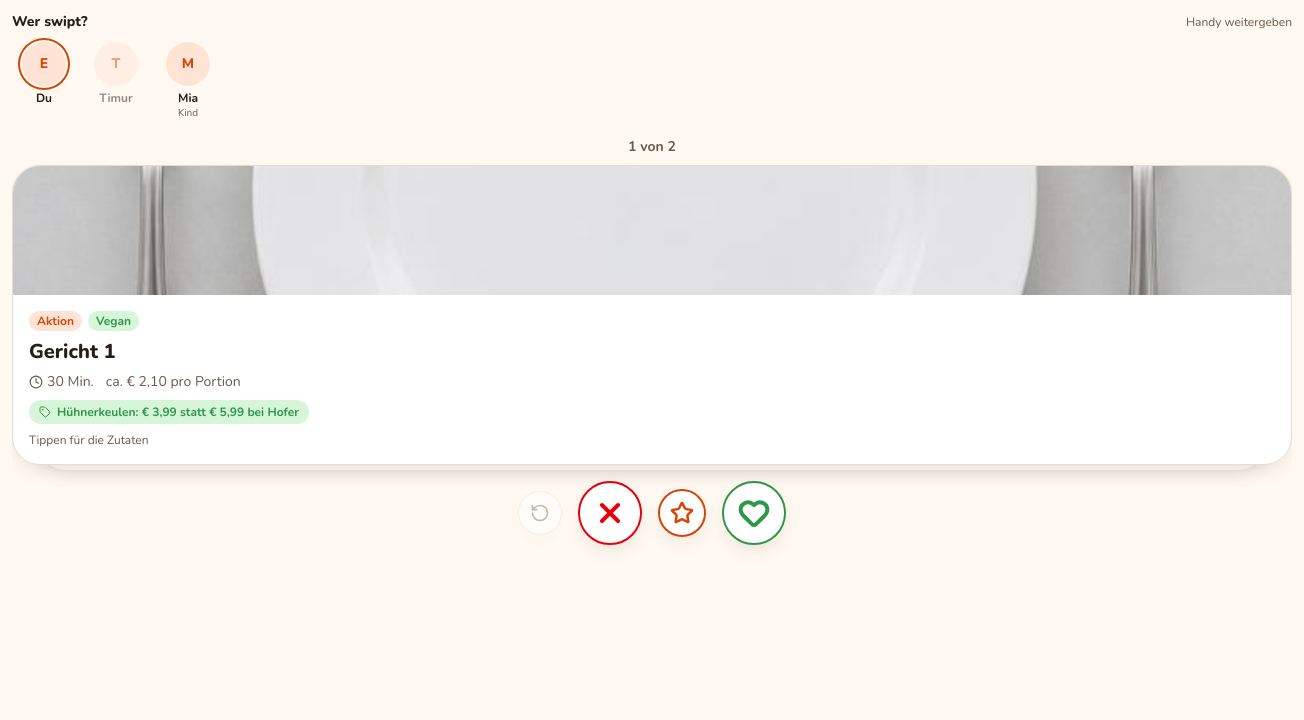
Test case: SwipeDeck › like button saves the vote and moves to the next card, then shows done
Click the button named "Mag ich" at (754,513), box [722,481,786,545]
Wait 300 ms
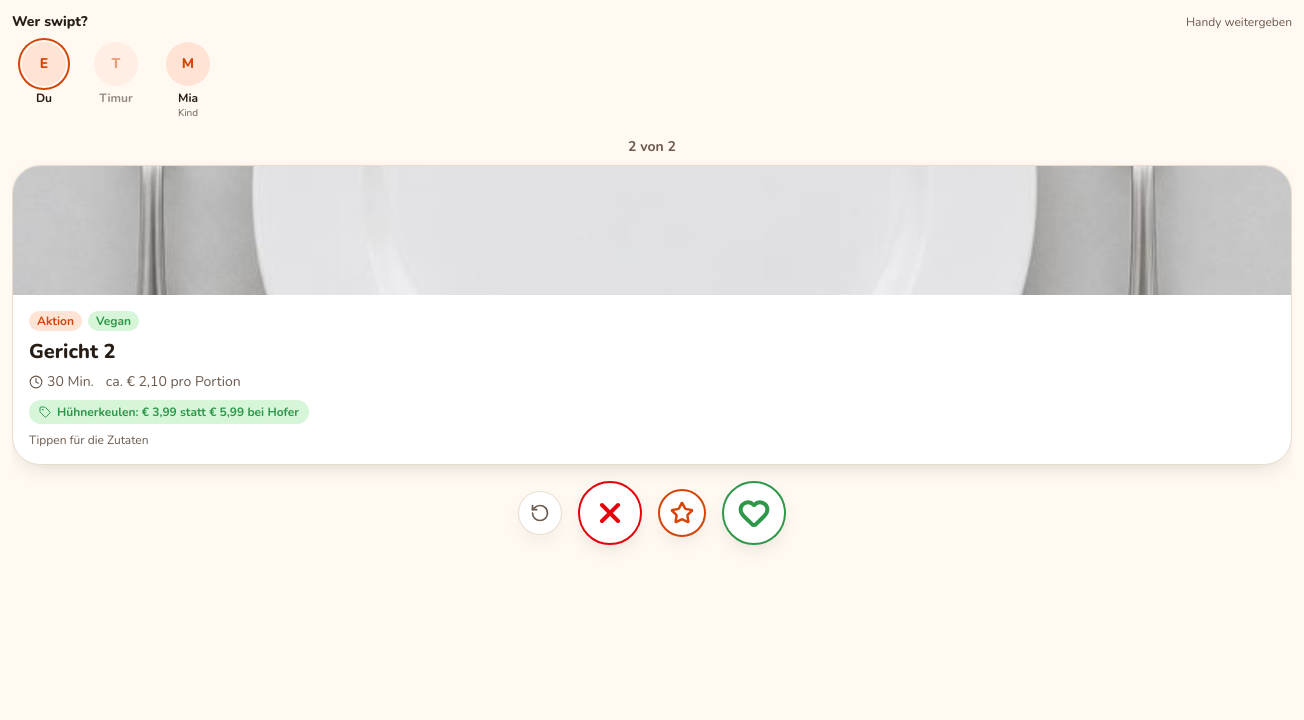
Now the text "2 von 2" is shown, box [628,137,676,156]
Click the button named "Mag ich nicht" at (610,513), box [578,481,642,545]
Wait 300 ms
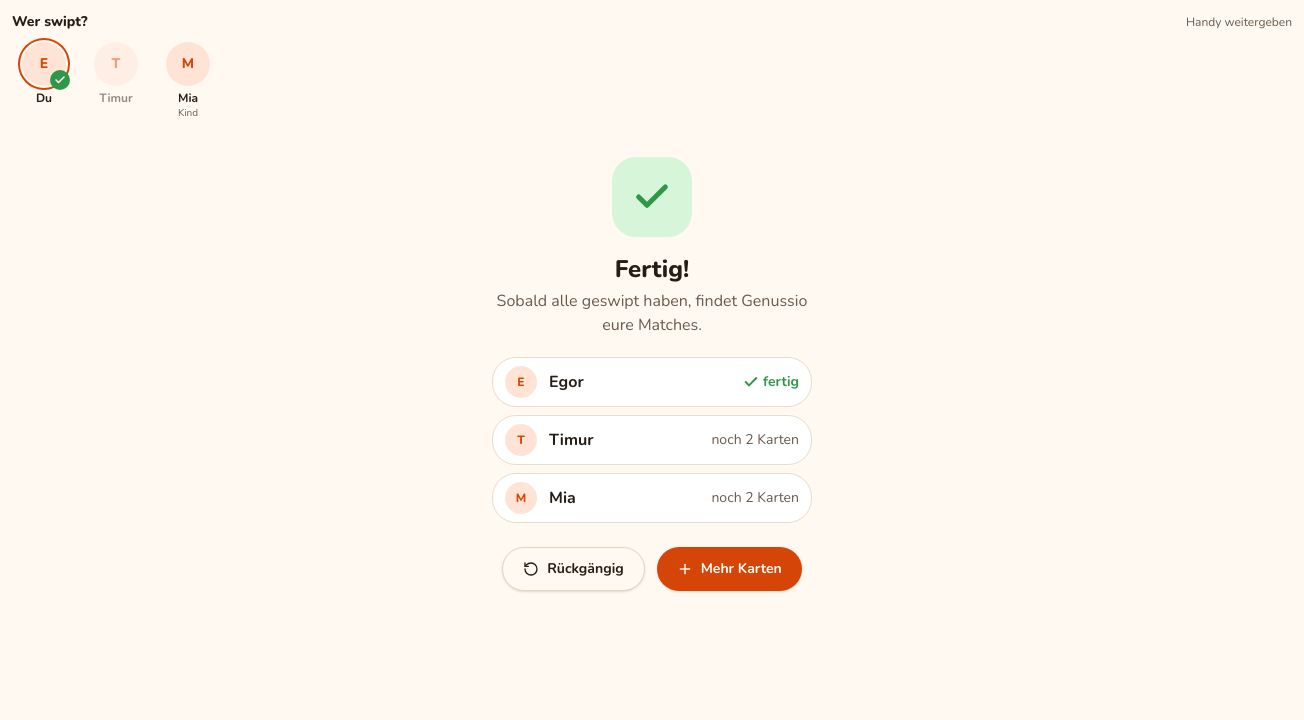
Now the heading "Fertig!" is shown, box [615,253,689,285]
Now the button "Mehr Karten" is shown, box [657,547,802,591]
